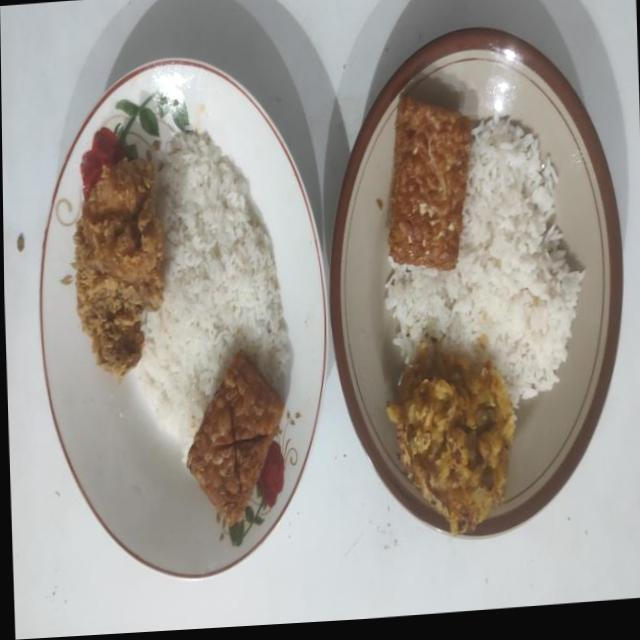nasi_putih: (384, 117, 584, 408), (137, 131, 292, 460)
tempe_goreng: (187, 350, 284, 526), (388, 96, 471, 270)
